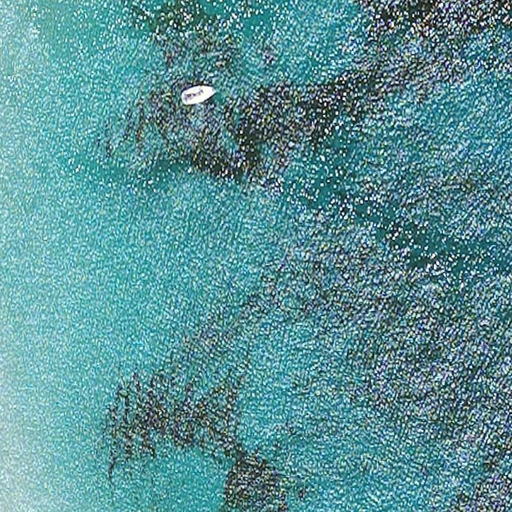ship: (179, 83, 219, 107)
